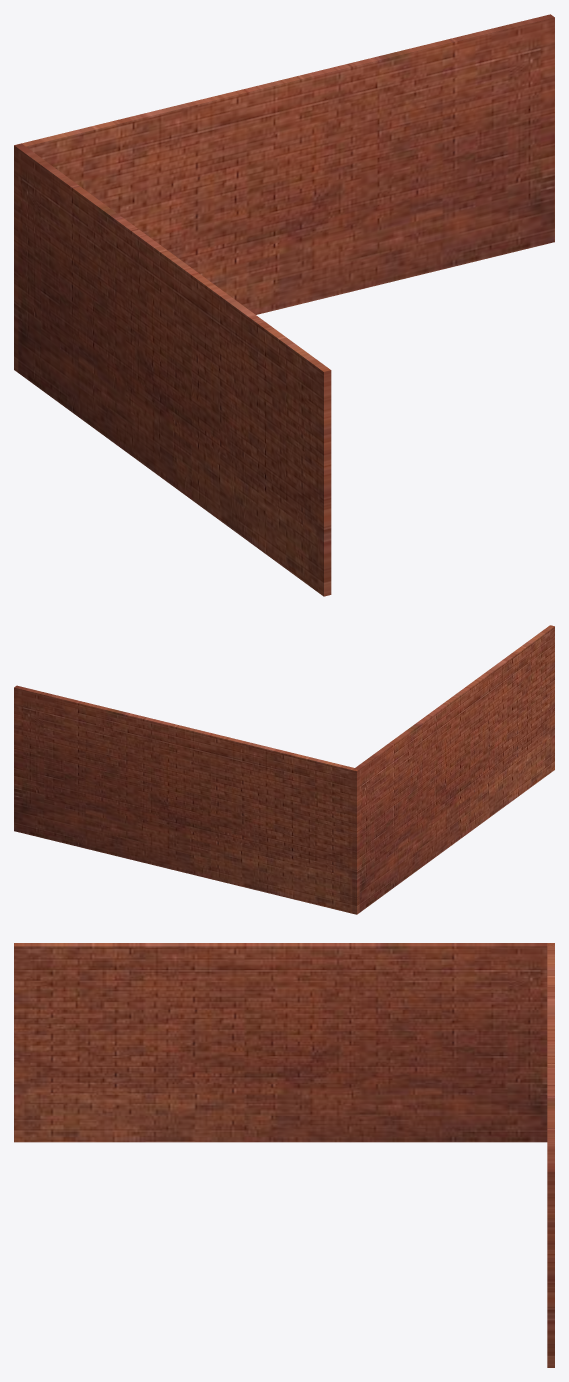
File: wall.glb
3 views of the same model, one above another, from view 1: azimuth 30°, elevation 25°; view 2: azimuth 150°, elevation 25°; view 3: azimuth 270°, elevation 25° (orthographic). The views are drawn at different scales.
Visible parts, largest first — view 1: Plane; view 2: Plane; view 3: Plane.
Part boxes in pixels (bbox=[...]): Plane: bbox=[14, 14, 554, 596]; Plane: bbox=[14, 625, 554, 914]; Plane: bbox=[14, 943, 554, 1367].
Size of the model in its own units: 10 by 4 by 10.
1 material, 1 textured.
